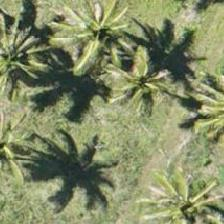coconut_tree: (93, 36, 183, 126), (53, 0, 143, 74), (140, 164, 223, 223), (0, 6, 51, 96)
